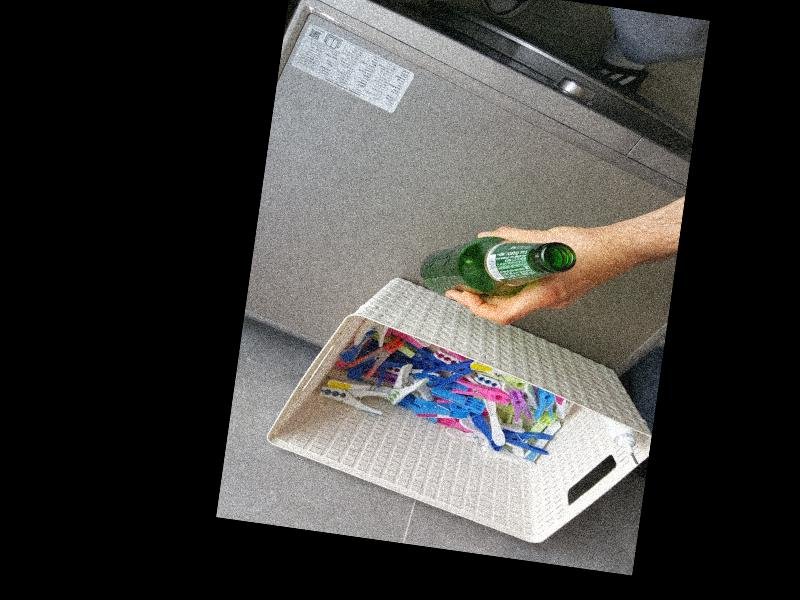Beer: (417, 223, 577, 315)
